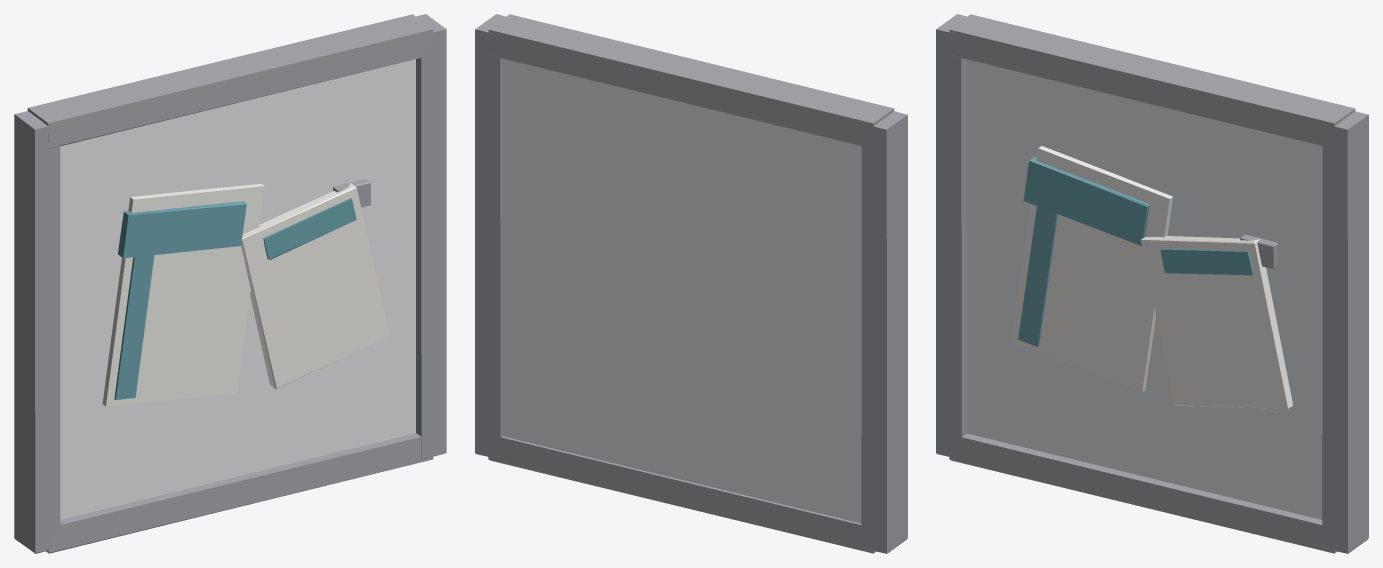
File: prop_icon_buy_01.glb
3 renders of one model, left to right at view 1: azimuth 30°, elevation 25°; view 2: azimuth 150°, elevation 25°; view 3: azimuth 330°, elevation 25°, orthographic.
Visible parts, largest first — view 1: prop_icon_buy_01; view 2: prop_icon_buy_01; view 3: prop_icon_buy_01.
Part boxes in pixels (box(x1,y1,x2,y2)): prop_icon_buy_01: box(14, 14, 446, 553); prop_icon_buy_01: box(475, 14, 907, 553); prop_icon_buy_01: box(936, 14, 1368, 553).
Size of the model in its own units: 0.32 by 0.32 by 0.032.
